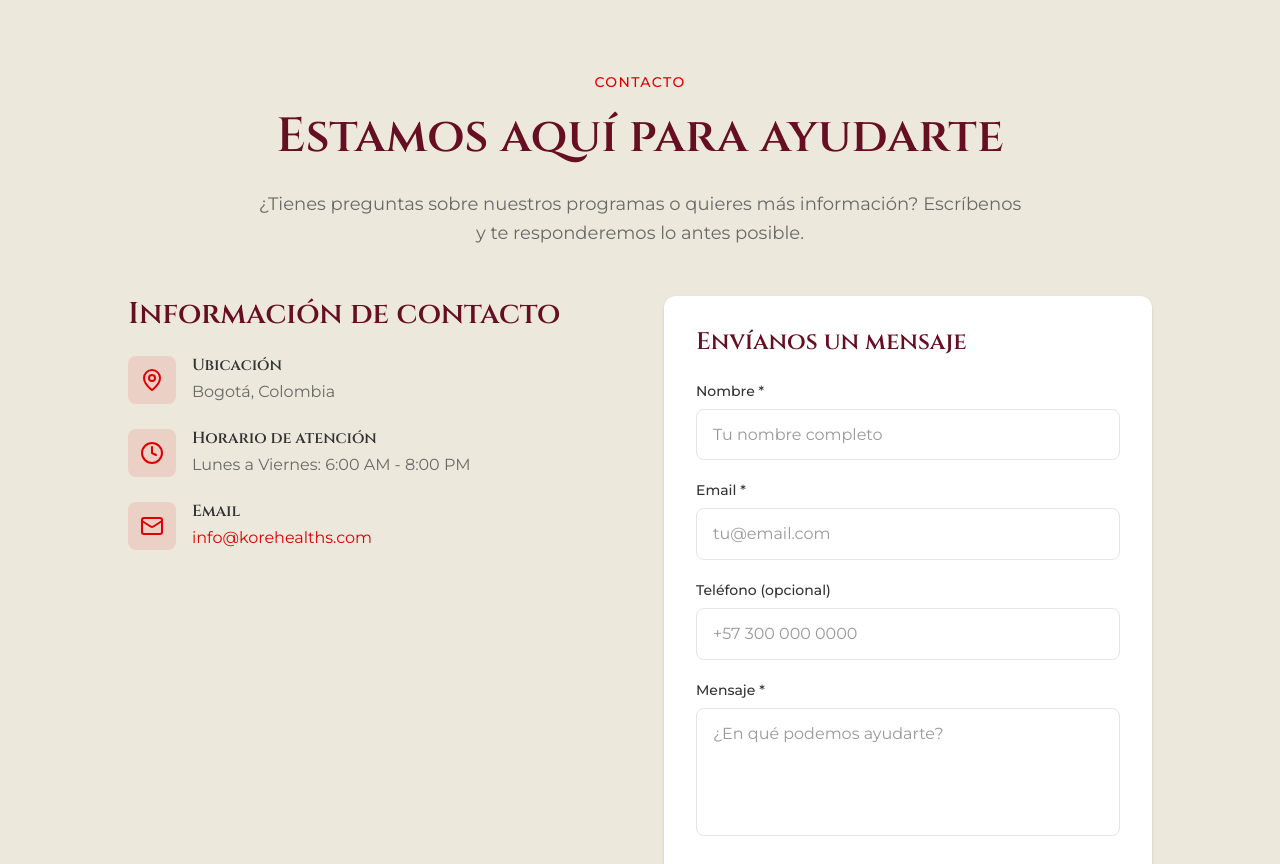
Scenario: ContactPage › displays success message after successful submission
Type "Juan" into the field labelled "Nombre *" at (908, 435), box [696,409,1120,460]
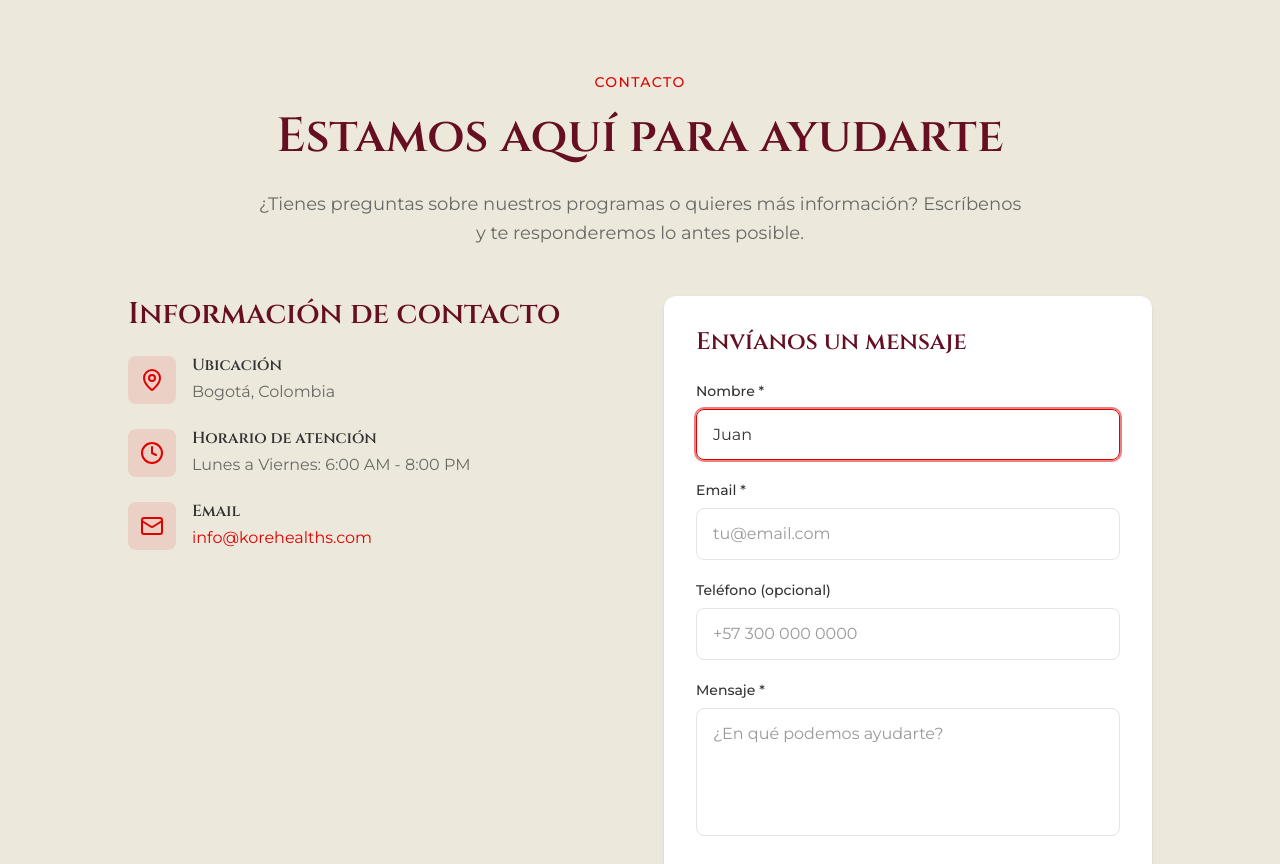
Type "juan@test.com" into the field labelled "Email *" at (908, 534), box [696,508,1120,560]
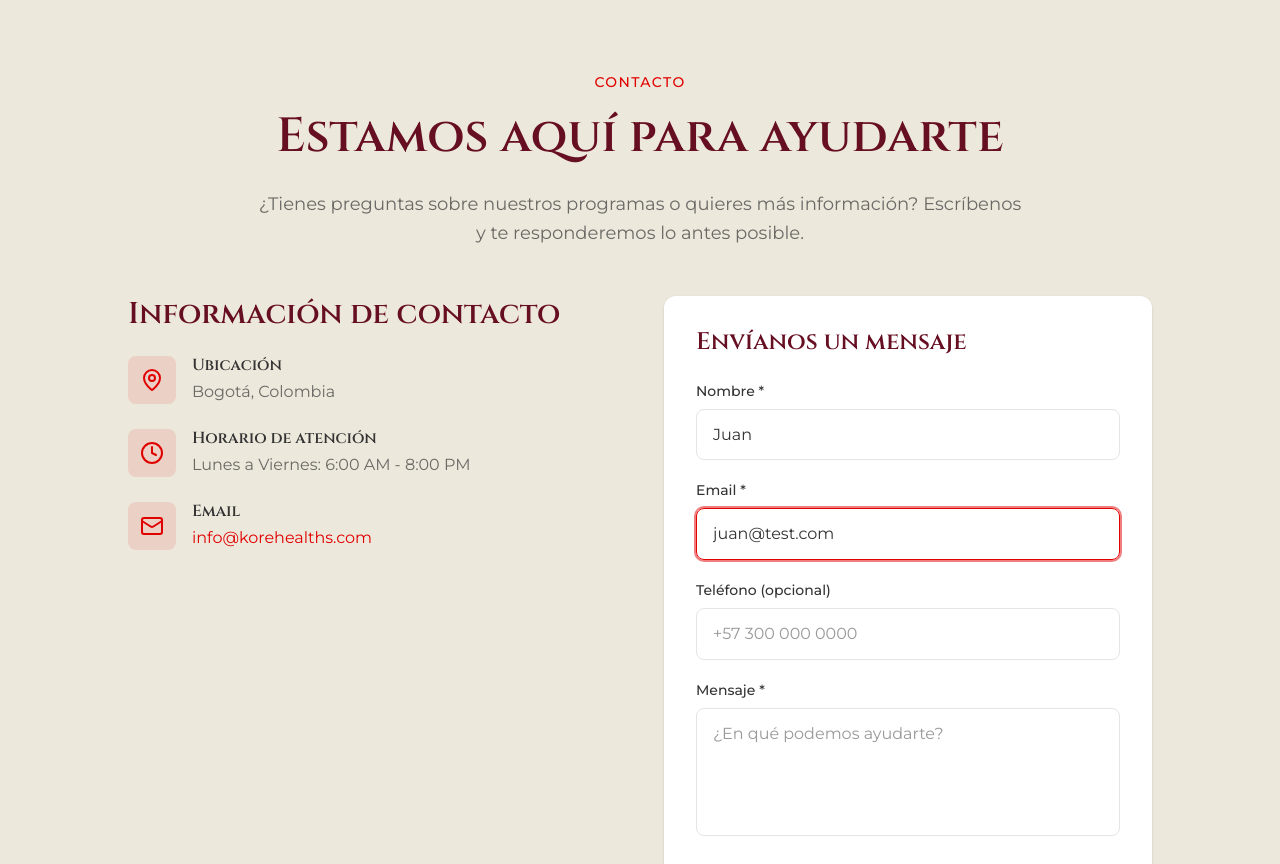
Type "Hola" into the text box labelled "Mensaje *" at (908, 772), box [696,708,1120,836]
(page scrolled)
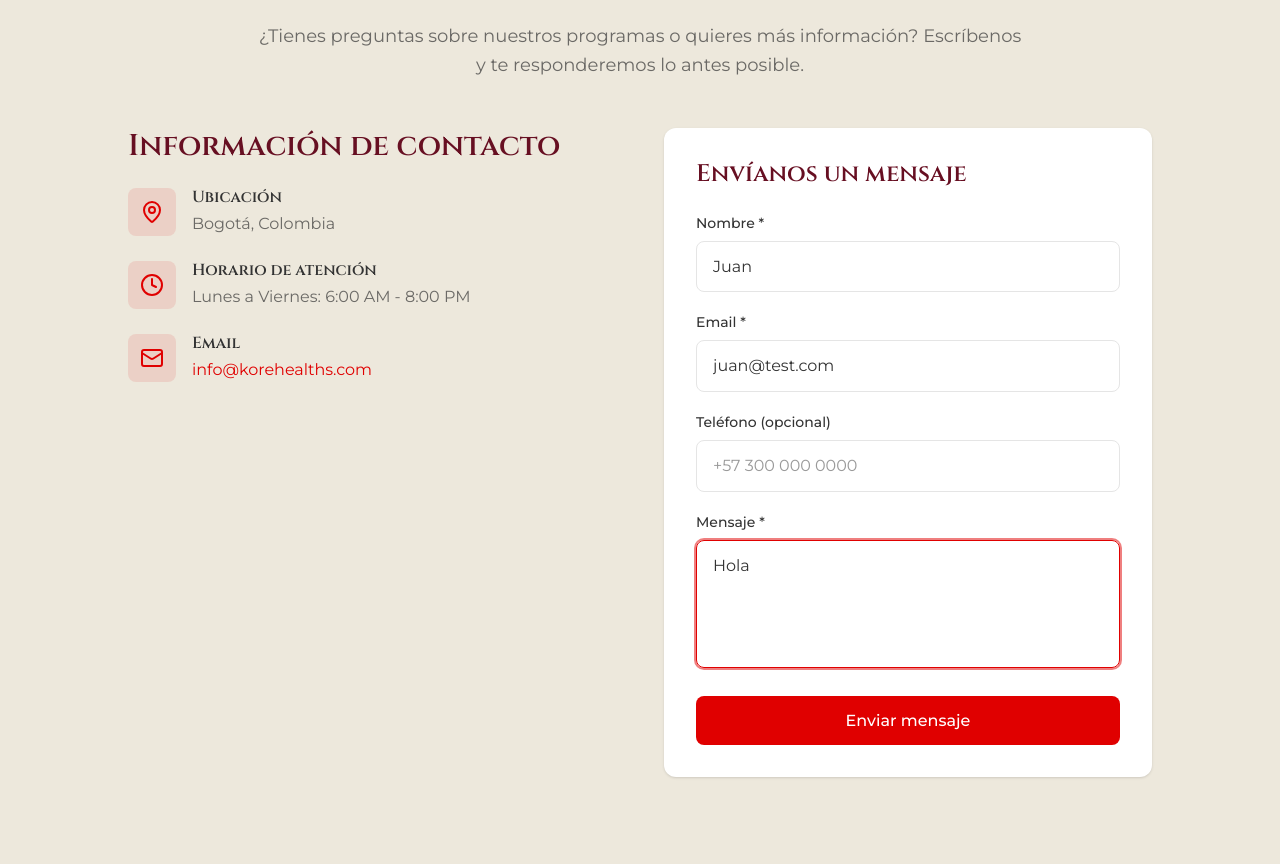
Click the button "Enviar mensaje" at (908, 720), box [696,696,1120,745]
(page scrolled)
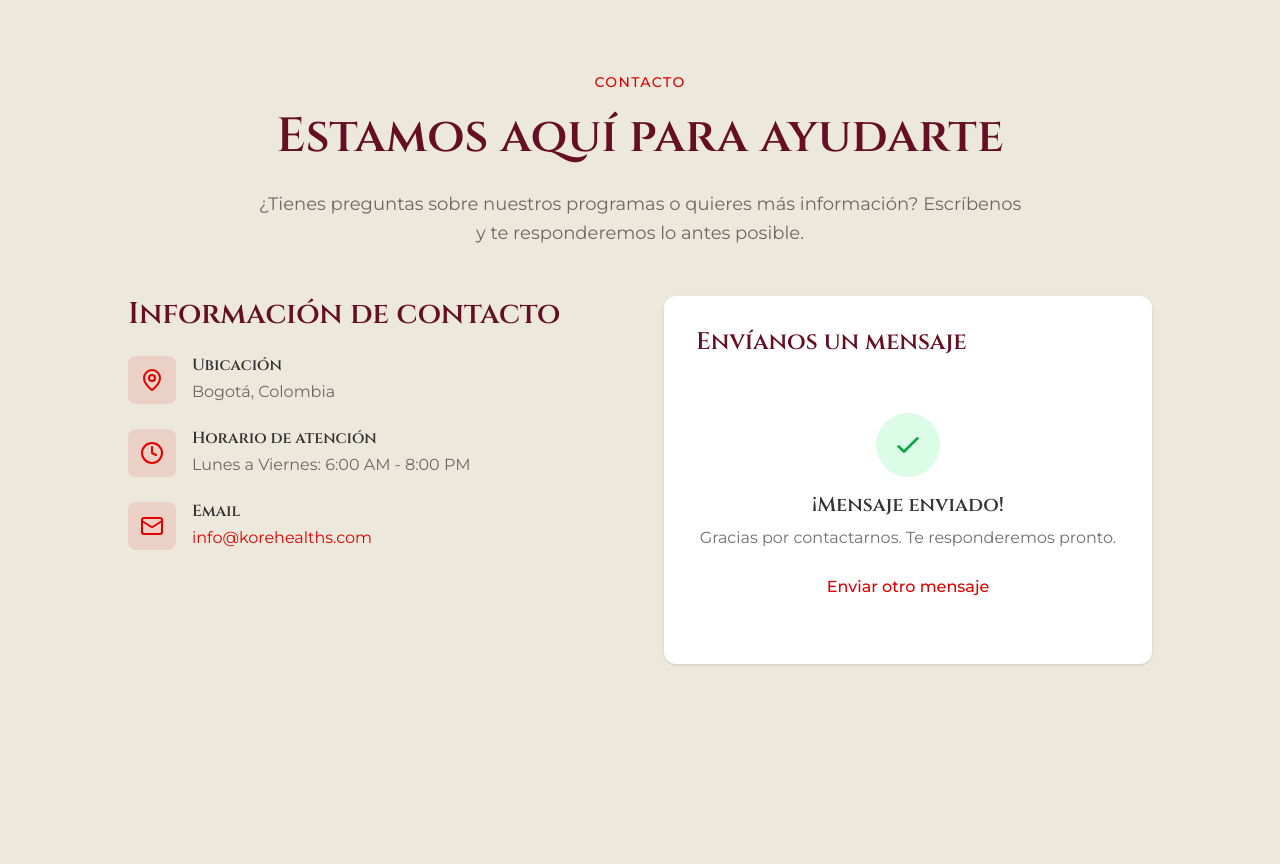
Check: the heading "¡Mensaje enviado!" is shown, box [812,491,1004,518]
